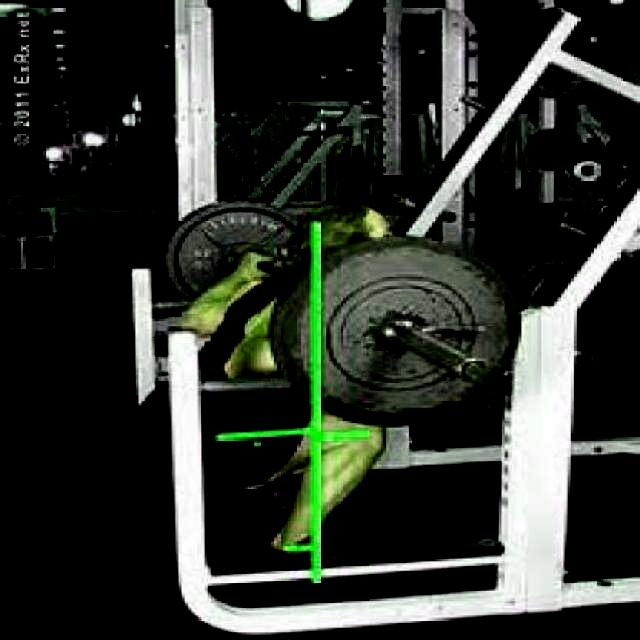barbell: (267, 233, 524, 432)
